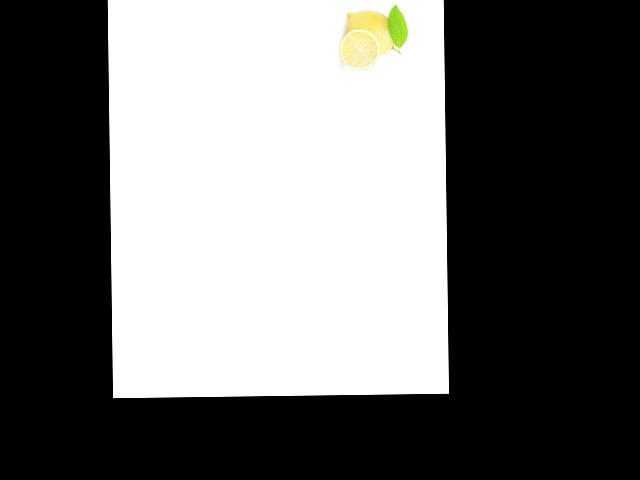lemon: (341, 4, 402, 58)
